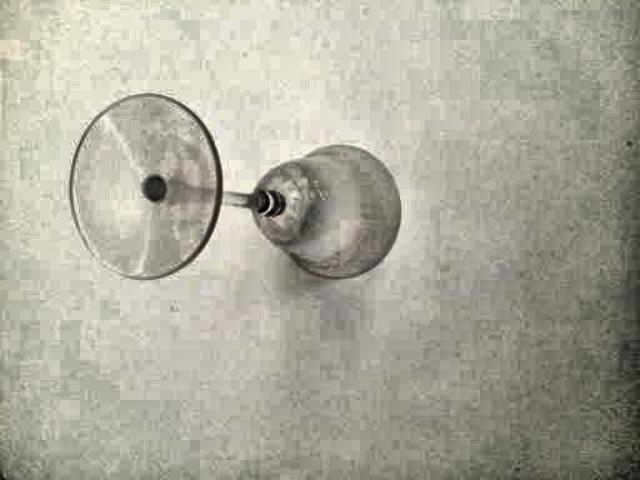Almennt: (71, 80, 407, 312)
